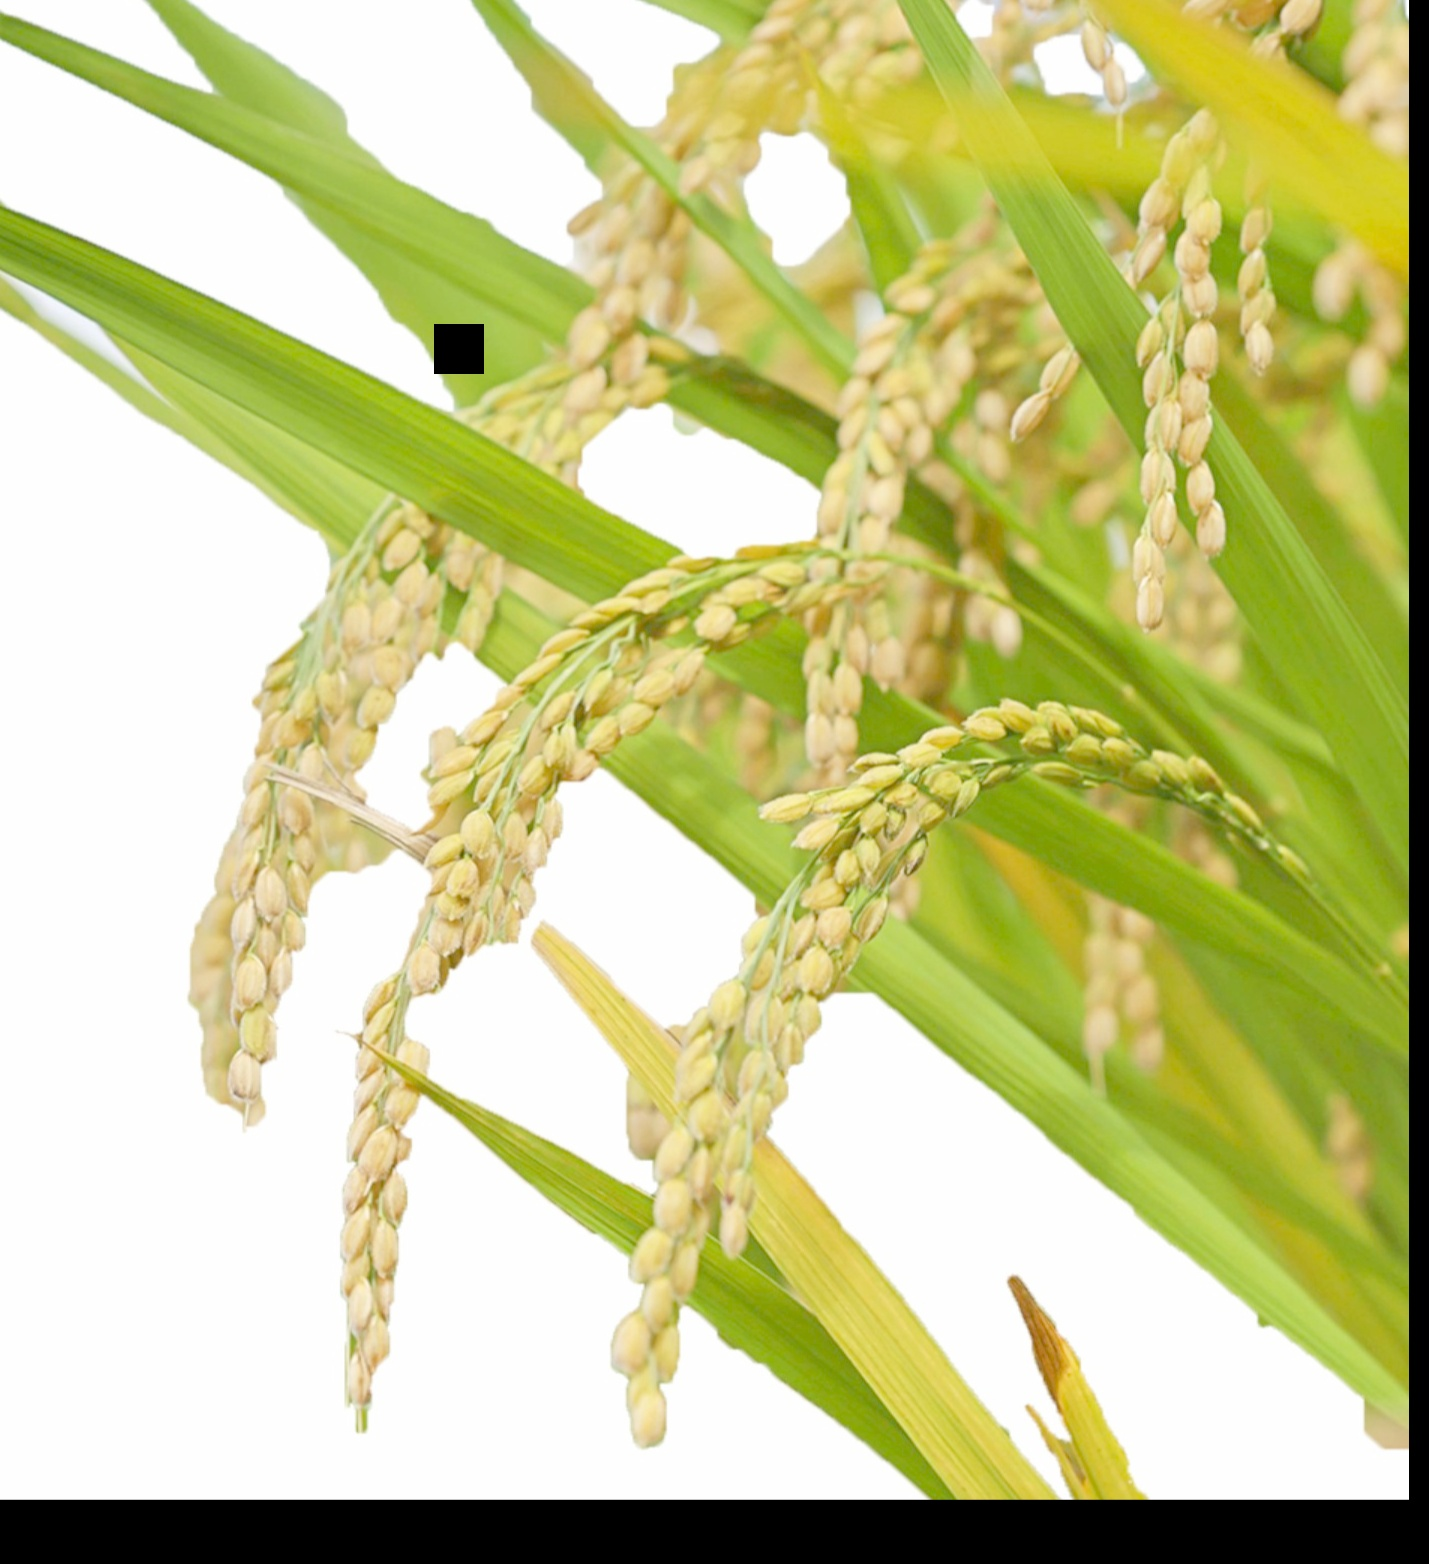rice: (360, 504, 1060, 1420), (625, 693, 1211, 1471), (178, 328, 612, 1109)
